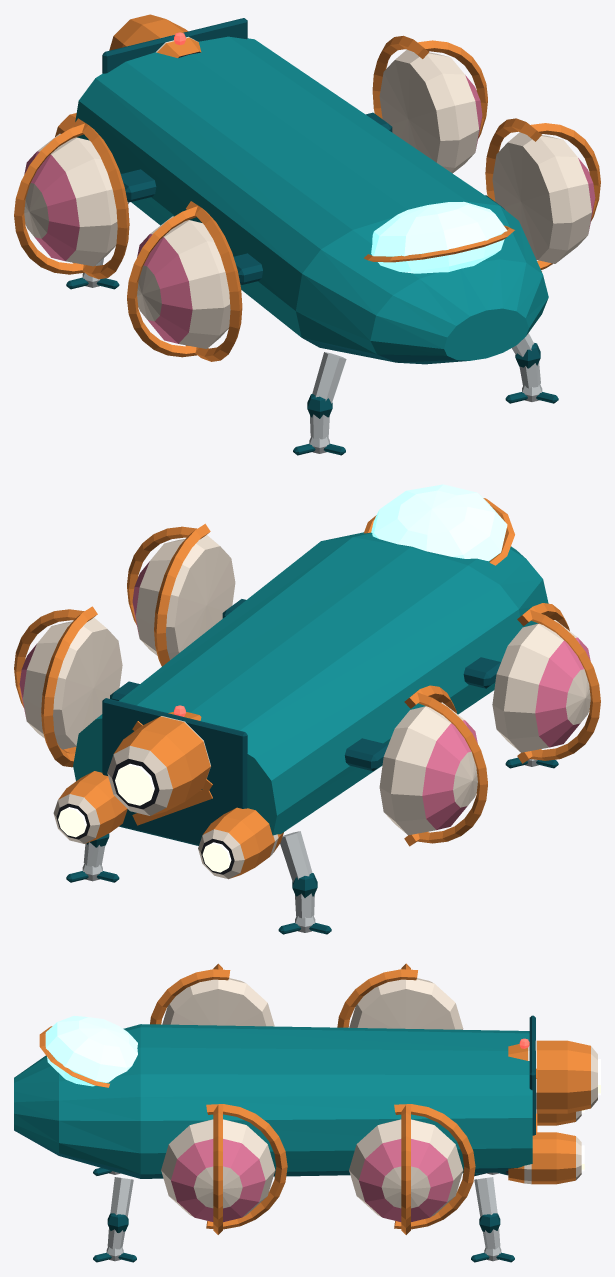
File: cor-f_gelandet.glb
3 views of the same model, one above another, from view 1: azimuth 30°, elevation 25°; view 2: azimuth 150°, elevation 25°; view 3: azimuth 270°, elevation 25° (orthographic). The views are drawn at different scales.
Visible parts, largest first — view 1: rumpf, frachtschale_1, frachtschale_3, frachtschale_4, frachtschale_2, cockpit, schutzbügel_4, schutzbügel_3, landebein_2, schutzbügel_1, schutzbügel_2, triebwerk_m (+4 smaller); view 2: rumpf, frachtschale_4, frachtschale_3, rampe, frachtschale_2, cockpit, frachtschale_1, triebwerk_m, triebwerk_r, triebwerk_l, schutzbügel_2, schutzbügel_1 (+6 smaller); view 3: rumpf, frachtschale_1, frachtschale_2, cockpit, triebwerk_m, frachtschale_4, frachtschale_3, schutzbügel_1, schutzbügel_2, triebwerk_l, landebein_3, landebein_1 (+4 smaller).
Part boxes in pixels (x1,y1,x2,y2): rumpf: [75, 36, 548, 364]; frachtschale_1: [492, 132, 595, 263]; frachtschale_3: [137, 216, 230, 348]; frachtschale_4: [24, 133, 117, 266]; frachtschale_2: [379, 49, 482, 173]; cockpit: [364, 201, 514, 273]; schutzbügel_4: [14, 118, 129, 279]; schutzbügel_3: [127, 201, 242, 361]; landebein_2: [293, 352, 346, 455]; schutzbügel_1: [485, 118, 600, 271]; schutzbügel_2: [372, 35, 487, 138]; triebwerk_m: [109, 14, 201, 57]; rumpf: [73, 532, 548, 835]; frachtschale_4: [379, 702, 477, 835]; frachtschale_3: [492, 620, 590, 752]; rampe: [102, 698, 247, 845]; frachtschale_2: [19, 617, 122, 749]; cockpit: [363, 484, 514, 565]; frachtschale_1: [132, 535, 235, 659]; triebwerk_m: [107, 711, 210, 815]; triebwerk_r: [198, 807, 283, 879]; triebwerk_l: [53, 771, 127, 843]; schutzbügel_2: [14, 606, 97, 767]; schutzbügel_1: [127, 523, 210, 666]; rumpf: [14, 1024, 532, 1178]; frachtschale_1: [161, 1119, 275, 1222]; frachtschale_2: [349, 1119, 463, 1221]; cockpit: [39, 1015, 137, 1087]; triebwerk_m: [508, 1040, 600, 1113]; frachtschale_4: [349, 978, 463, 1029]; frachtschale_3: [162, 978, 274, 1026]; schutzbügel_1: [206, 1104, 287, 1234]; schutzbügel_2: [394, 1104, 475, 1234]; triebwerk_l: [506, 1132, 584, 1184]; landebein_3: [471, 1177, 514, 1262]; landebein_1: [93, 1177, 136, 1262].
Bounding box in the file's own units: 0.1395 × 0.0652 × 0.1796.
